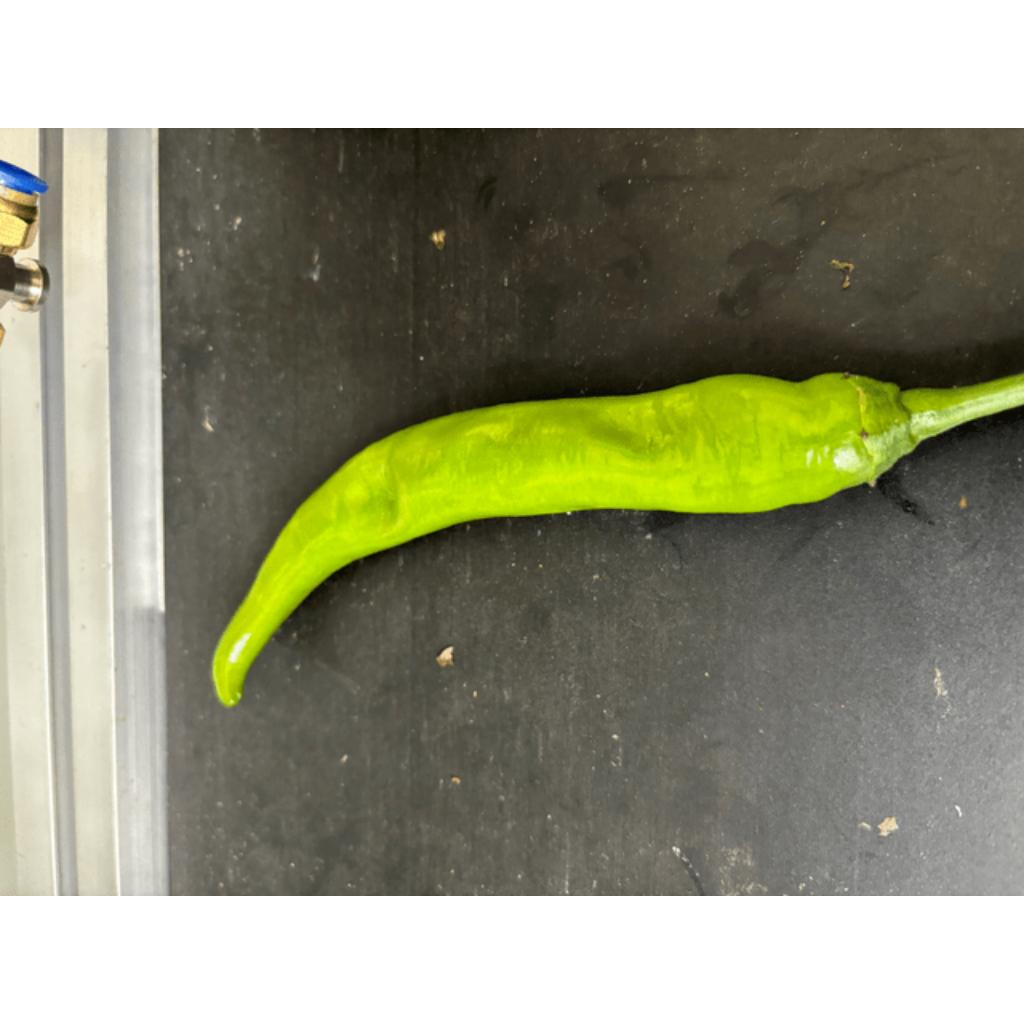chili: (207, 369, 921, 709)
